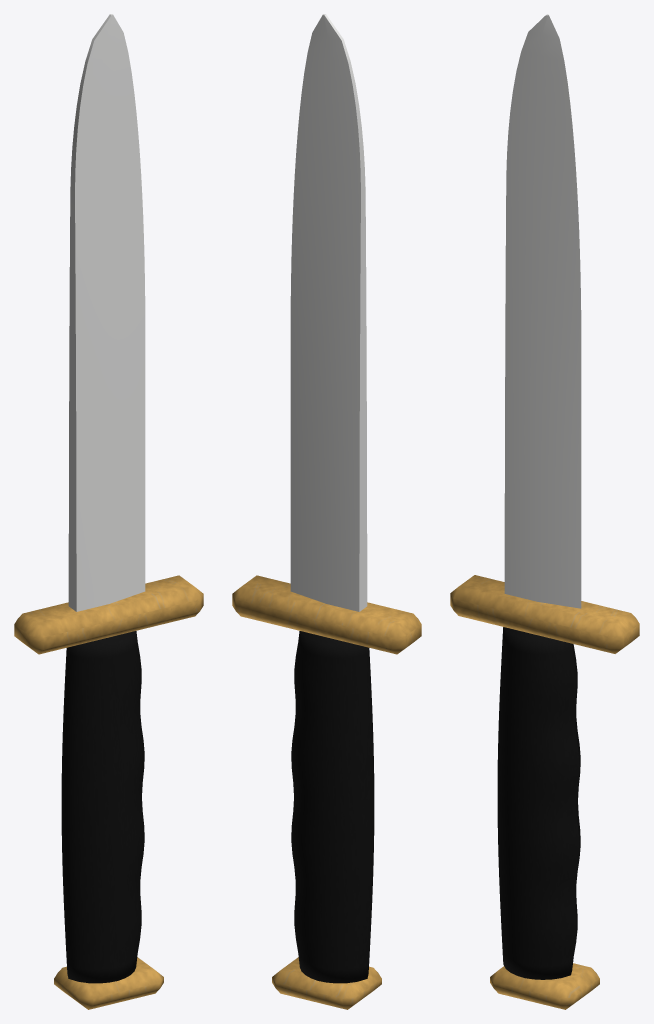
The model's file is knife.glb.
3 views of the same model, side by side, from view 1: azimuth 30°, elevation 25°; view 2: azimuth 150°, elevation 25°; view 3: azimuth 330°, elevation 25° (orthographic).
Visible parts, largest first — view 1: Knife_Clean_blade, Knife_Clean_handle, Knife_Clean_guard; view 2: Knife_Clean_blade, Knife_Clean_handle, Knife_Clean_guard; view 3: Knife_Clean_blade, Knife_Clean_handle, Knife_Clean_guard.
Part boxes in pixels (box(x1,y1,x2,y2)): Knife_Clean_blade: box(68, 14, 145, 611); Knife_Clean_handle: box(61, 631, 144, 983); Knife_Clean_guard: box(14, 575, 203, 1009); Knife_Clean_blade: box(290, 14, 367, 611); Knife_Clean_handle: box(291, 631, 374, 983); Knife_Clean_guard: box(232, 575, 421, 1009); Knife_Clean_blade: box(504, 14, 581, 608); Knife_Clean_handle: box(497, 627, 580, 979); Knife_Clean_guard: box(450, 575, 639, 1009).
Bounding box in the file's own units: 0.062 × 0.334 × 0.022.
Materials: 3 (2 with a texture image).
